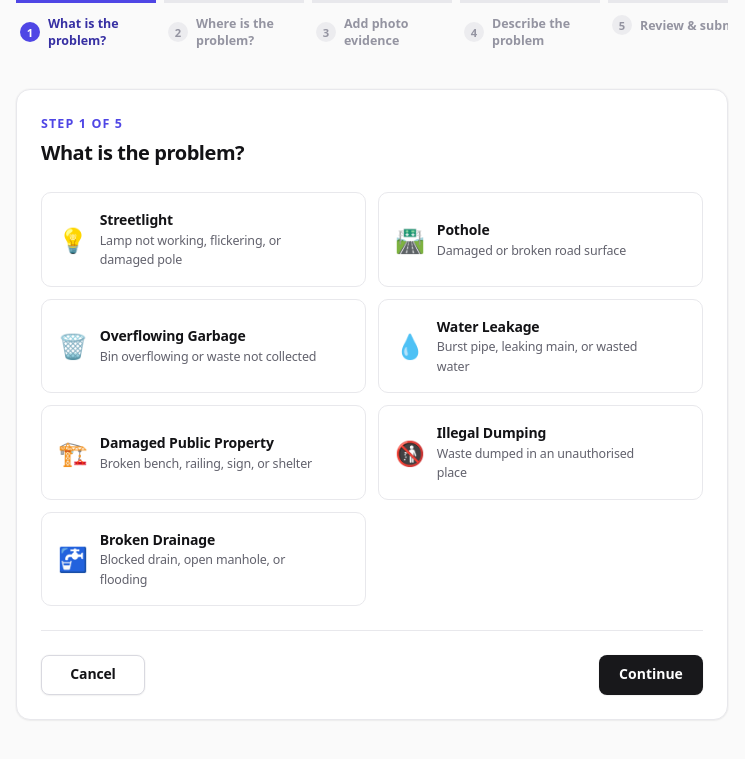
Test case: ReportIssue › blocks step 1 until a category is chosen
This screenshot has width=745, height=759.
(page scrolled)
Step 1. Click the button "Continue" → (651, 675), box x1=599 y1=655 x2=703 y2=694
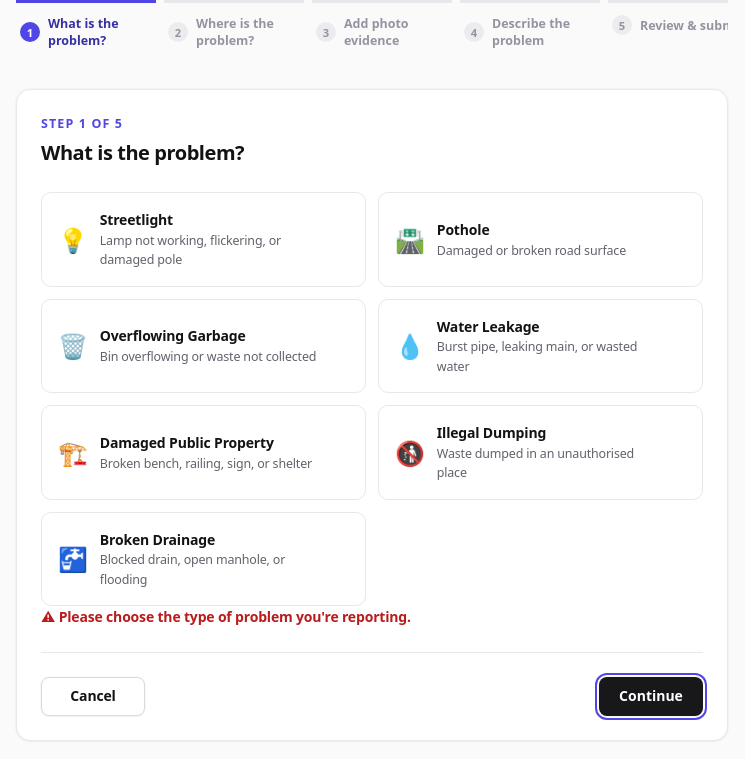
Check: the text "Step 1 of 5" is shown, box x1=41 y1=115 x2=123 y2=132
Check: the message shows "choose the type of problem", box x1=59 y1=607 x2=411 y2=626
